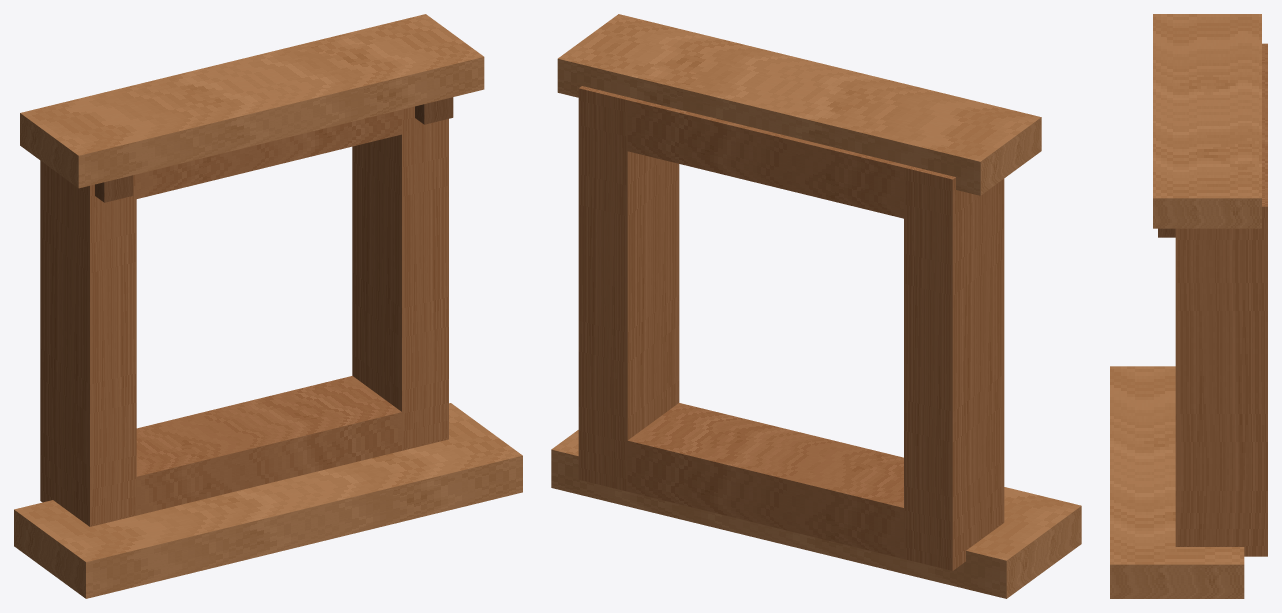
File: Window_01_OpenWood.fbx
The picture shows the model from 3 angles, left to right: view 1: azimuth 30°, elevation 25°; view 2: azimuth 150°, elevation 25°; view 3: azimuth 270°, elevation 25°; orthographic projection. The views are drawn at different scales.
Parts seen in each view (by area): view 1: Window_01_OpenWood; view 2: Window_01_OpenWood; view 3: Window_01_OpenWood.
Part boxes in pixels (x1,y1,x2,y2): Window_01_OpenWood: (14, 14, 522, 598); Window_01_OpenWood: (551, 14, 1081, 598); Window_01_OpenWood: (1110, 14, 1267, 598).
Size of the model in its own units: 56 by 51.75 by 18.8.
3 materials, 3 textured.
